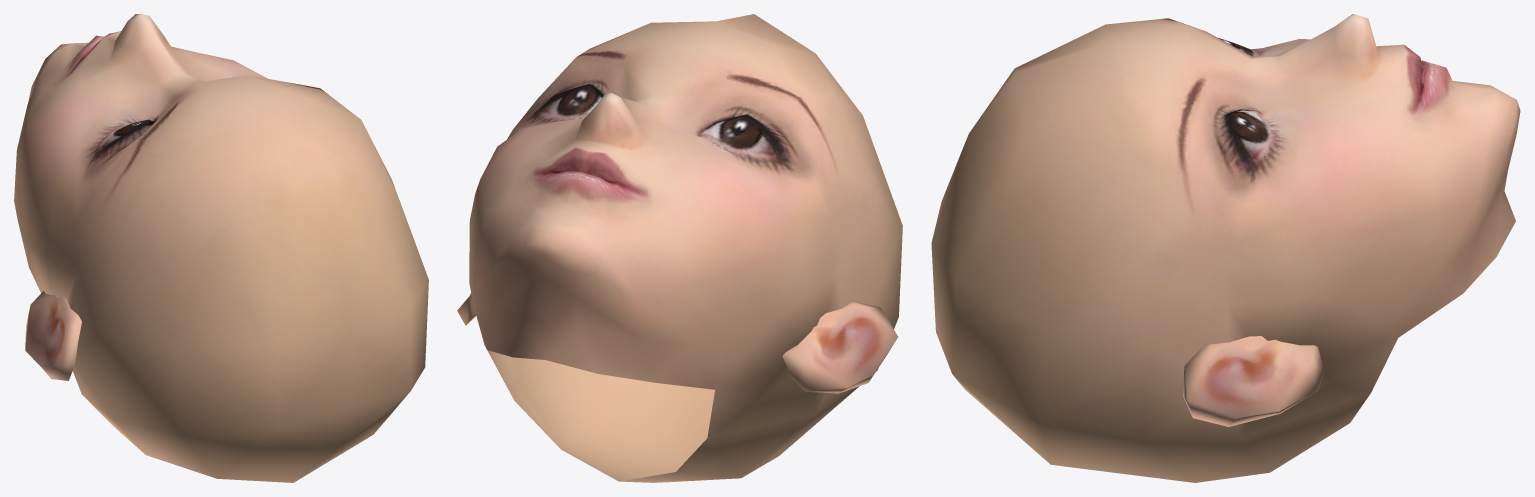
3 views of the same model, side by side, from view 1: azimuth 30°, elevation 25°; view 2: azimuth 150°, elevation 25°; view 3: azimuth 270°, elevation 25° (orthographic). The views are drawn at different scales.
Visible parts, largest first — view 1: head; view 2: head; view 3: head.
Part boxes in pixels (x1,y1,x2,y2): head: (14, 14, 428, 482); head: (457, 14, 902, 482); head: (931, 14, 1520, 482).
Size of the model in its own units: 0.1627 by 0.1724 by 0.2035.
1 material, 1 textured.
